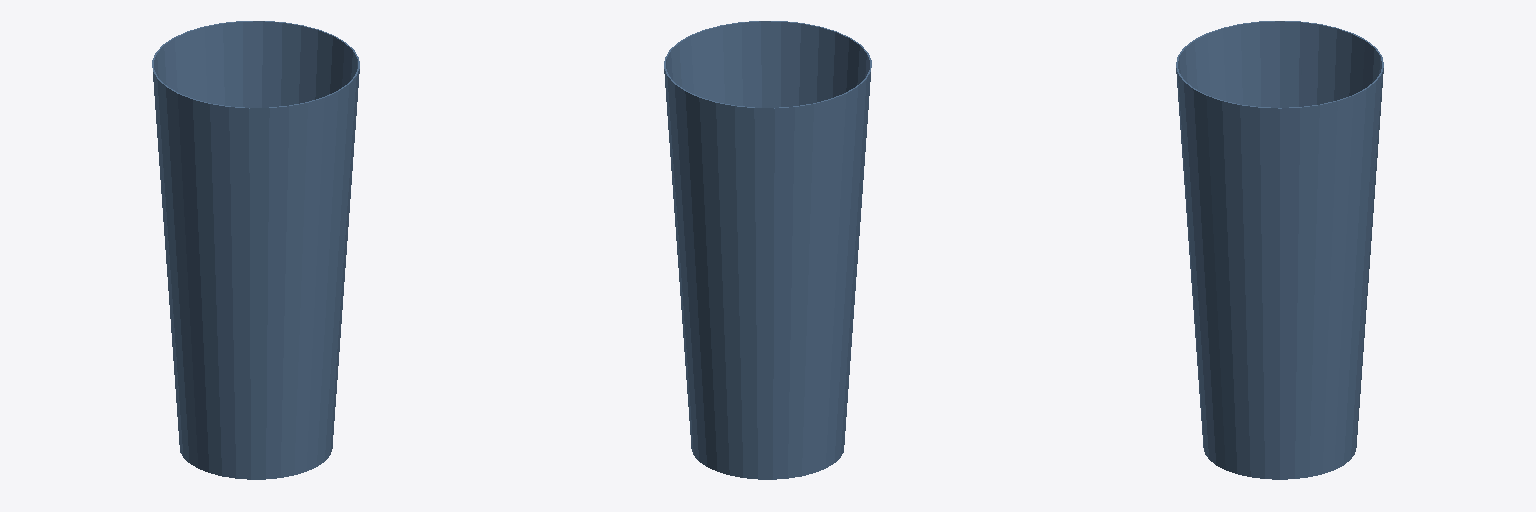
The model's file is glass.obj.
3 renders of one model, left to right at view 1: azimuth 30°, elevation 25°; view 2: azimuth 150°, elevation 25°; view 3: azimuth 270°, elevation 25°, orthographic.
Bounding box in the file's own units: 0.4253 × 0.8623 × 0.4253.